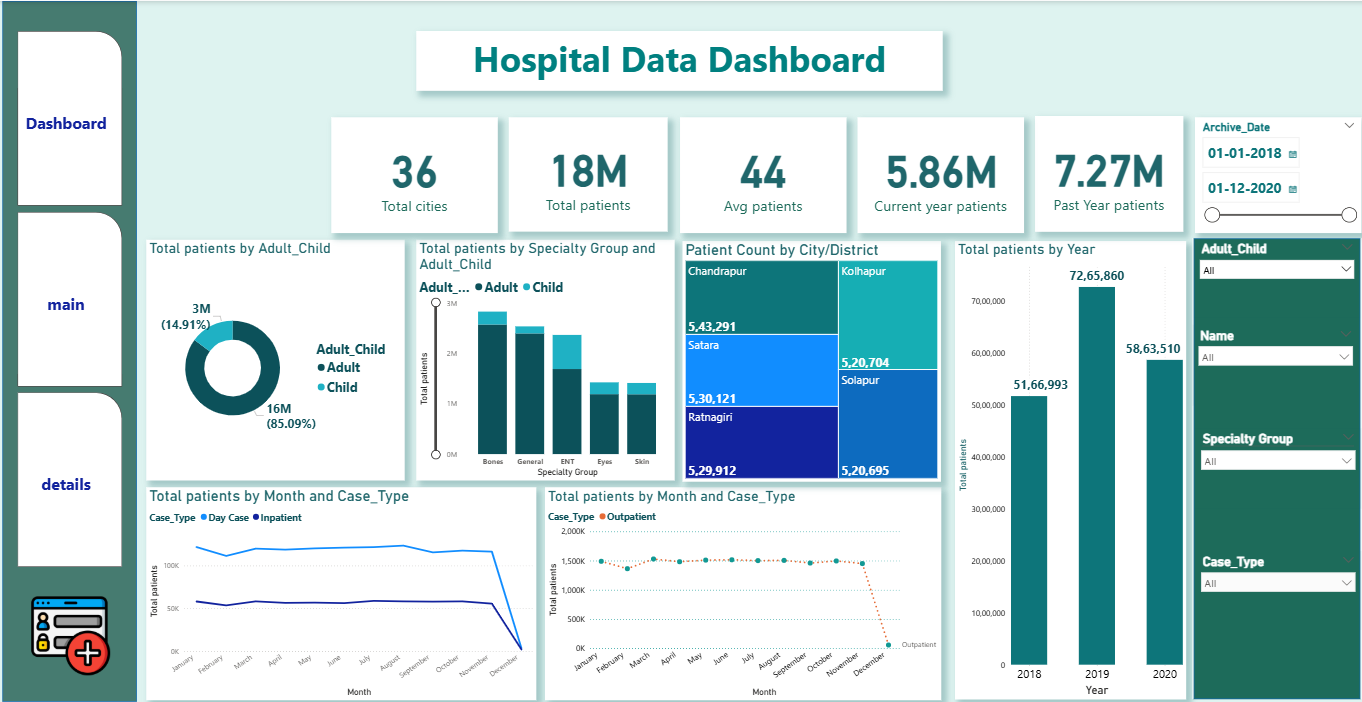

Layout of this report page (visuals, bound fields, positions):
{"tool":"powerbi","page":{"name":"Dashboard","canvas":[2300,1200],"ordinal":0},"visuals":[{"type":"shape","box":[2003.9,397.8,278.3,770],"z":0,"group":"g1"},{"type":"shape","box":[13.3,0,224.4,1171.1],"z":0},{"type":"donutChart","fields":{"Category":["hospital data.Adult_Child"],"Y":["Measure table.Total patients"]},"box":[252,400,432,402],"z":1000},{"type":"columnChart","fields":{"Category":["Mapping_Specialty.Specialty Group"],"Y":["Measure table.Total patients"],"Series":["hospital data.Adult_Child"]},"box":[704,400,432,402],"z":2000},{"type":"lineChart","fields":{"Category":["hospital data.Case_Type","hospital data.Archive_Date.Variation.Date Hierarchy.Year","hospital data.Archive_Date.Variation.Date Hierarchy.Month"],"Y":["Measure table.Total patients"],"Series":["hospital data.Case_Type"]},"box":[252,812,652,356],"z":3000},{"type":"lineChart","fields":{"Category":["hospital data.Case_Type","hospital data.Archive_Date.Variation.Date Hierarchy.Year","hospital data.Archive_Date.Variation.Date Hierarchy.Month"],"Y":["Measure table.Total patients"],"Series":["hospital data.Case_Type"]},"box":[920,812,662,356],"z":4000},{"type":"treemap","title":"Patient Count by City/District","fields":{"Group":["Dis Name MH.Name"],"Values":["Measure table.Total patients"]},"box":[1150,402,432,402],"z":5000},{"type":"lineClusteredColumnComboChart","fields":{"Category":["hospital data.Archive_Date.Variation.Date Hierarchy.Year"],"Y":["Measure table.Total patients"]},"box":[1604,402,386,766],"z":6000},{"type":"card","fields":{"Values":["Measure table.Total cities"]},"box":[561.7,193.6,278.7,193.6],"z":7000},{"type":"card","fields":{"Values":["Measure table.Avg patients"]},"box":[1144.6,193.5,278.3,193.5],"z":8000},{"type":"card","fields":{"Values":["Measure table.Past Year patients"]},"box":[1739.3,191.3,247.8,193.5],"z":9000},{"type":"card","fields":{"Values":["Measure table.2020 year patients"]},"box":[1442,193.5,278.3,193.5],"z":10000},{"type":"slicer","fields":{"Values":["hospital data.Archive_Date"]},"box":[2006.4,193.6,278.7,193.6],"z":11000},{"type":"image","box":[50.1,990.4,152.5,142.1],"z":12000},{"type":"card","fields":{"Values":["Measure table.Total patients"]},"box":[859.5,193.6,266,191.5],"z":13000},{"type":"group","id":"g1","title":"Group 2","box":[2002.2,397.8,282.2,768.9],"z":14000},{"type":"textbox","box":[704.4,51.1,880,100],"z":15000},{"type":"pageNavigator","box":[37.6,50.1,175.5,896.4],"z":16000},{"type":"slicer","fields":{"Values":["hospital data.Adult_Child"]},"box":[2003.9,397.8,278.3,131.7],"z":18500,"group":"g1"},{"type":"slicer","fields":{"Values":["Dis Name MH.Name"]},"box":[2002.2,542.8,278.3,135],"z":18750,"group":"g1"},{"type":"slicer","fields":{"Values":["Mapping_Specialty.Specialty Group"]},"box":[2005.5,716.1,278.3,133.3],"z":18875,"group":"g1"},{"type":"slicer","fields":{"Values":["hospital data.Case_Type"]},"box":[2005.5,921.1,278.3,131.7],"z":18937,"group":"g1"}]}

Visuals, with their boxes on the page's 2300x1200 design canvas (x1, y1, x2, y2). These are canvas units, not pixel positions in the 1362x702 screenshot, which may show the page scaled, cropped or inside an application window:
shape: (2004,398,2282,1168)
shape: (13,0,238,1171)
donutChart - hospital data.Adult_Child x Measure table.Total patients: (252,400,684,802)
columnChart - Mapping_Specialty.Specialty Group x Measure table.Total patients: (704,400,1136,802)
lineChart - hospital data.Case_Type x hospital data.Archive_Date.Variation.Date Hierarchy.Year: (252,812,904,1168)
lineChart - hospital data.Case_Type x hospital data.Archive_Date.Variation.Date Hierarchy.Year: (920,812,1582,1168)
"Patient Count by City/District" treemap: (1150,402,1582,804)
lineClusteredColumnComboChart - hospital data.Archive_Date.Variation.Date Hierarchy.Year x Measure table.Total patients: (1604,402,1990,1168)
card - Measure table.Total cities: (562,194,840,387)
card - Measure table.Avg patients: (1145,194,1423,387)
card - Measure table.Past Year patients: (1739,191,1987,385)
card - Measure table.2020 year patients: (1442,194,1720,387)
slicer - hospital data.Archive_Date: (2006,194,2285,387)
image: (50,990,203,1132)
card - Measure table.Total patients: (860,194,1126,385)
"Group 2" group: (2002,398,2284,1167)
textbox: (704,51,1584,151)
pageNavigator: (38,50,213,946)
slicer - hospital data.Adult_Child: (2004,398,2282,530)
slicer - Dis Name MH.Name: (2002,543,2280,678)
slicer - Mapping_Specialty.Specialty Group: (2006,716,2284,849)
slicer - hospital data.Case_Type: (2006,921,2284,1053)
